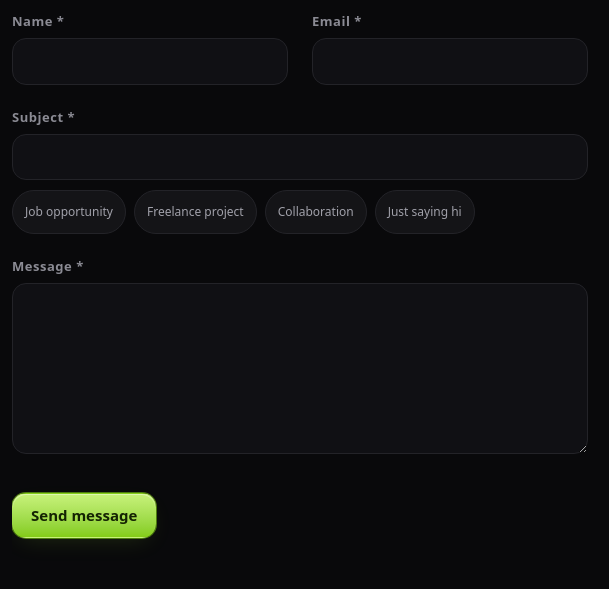
it: ContactForm › surfaces server field errors without wiping the form
This screenshot has width=609, height=589.
Type "Jane Doe" into the field labelled "Name *" at (150, 61), box [12,38,288,85]
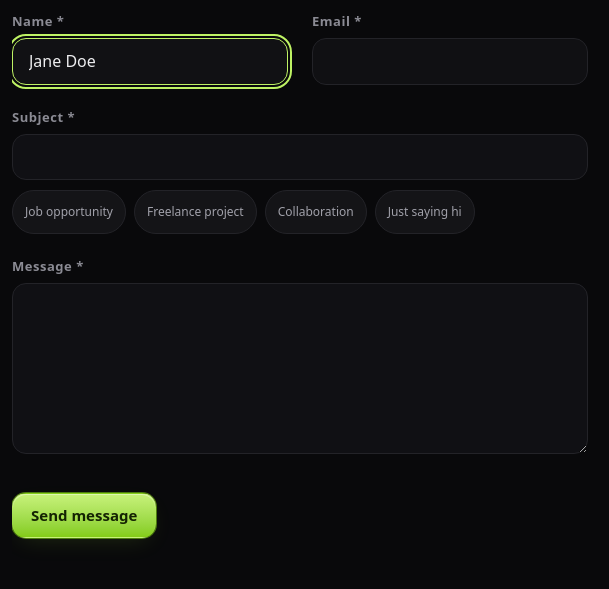
Type "jane@example.com" into the field labelled "Email *" at (450, 61), box [312,38,588,85]
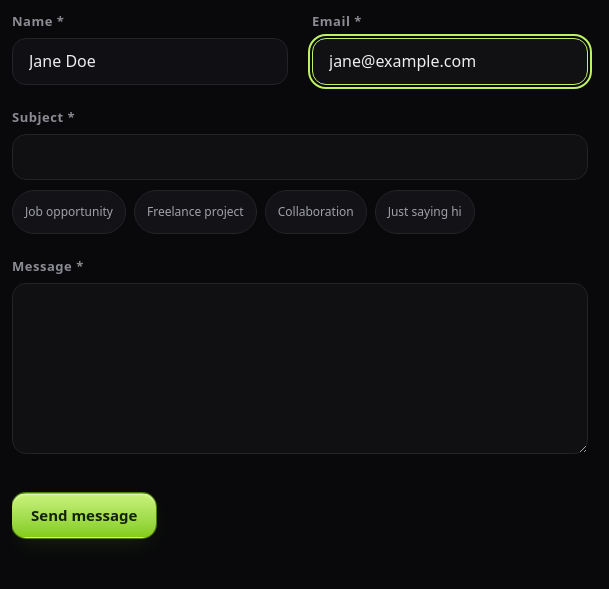
Type "Project inquiry" into the field labelled "Subject *" at (300, 157), box [12,134,588,180]
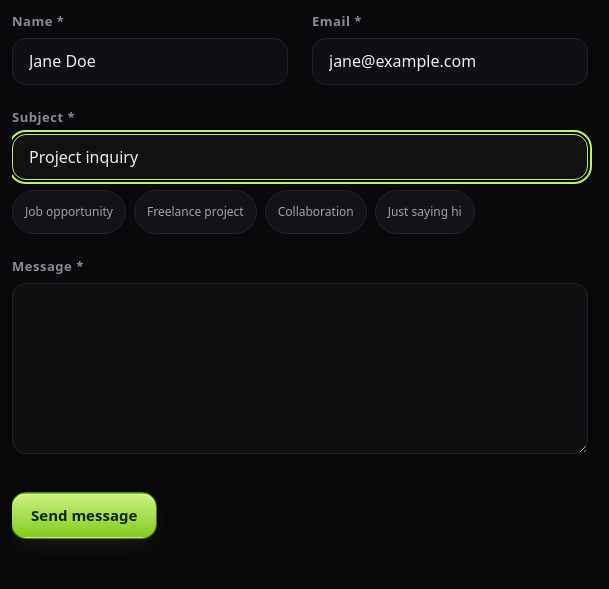
Type "I would love to discuss a frontend role with you." into the text box labelled "Message *" at (300, 369), box [12,283,588,454]
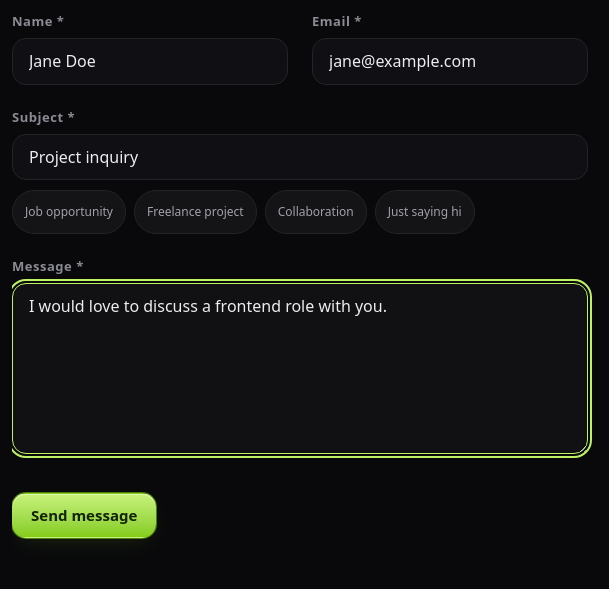
Click the button "Send message" at (84, 515), box [12,493,156,538]
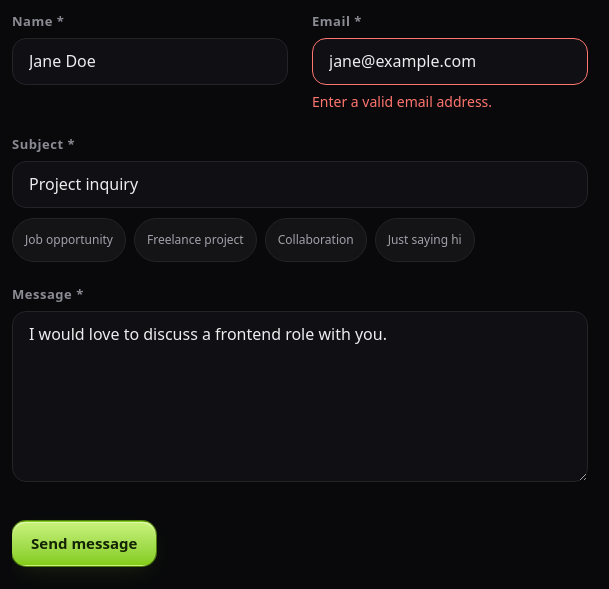
expect the text "Enter a valid email address." is shown: met, box [312,92,492,111]
